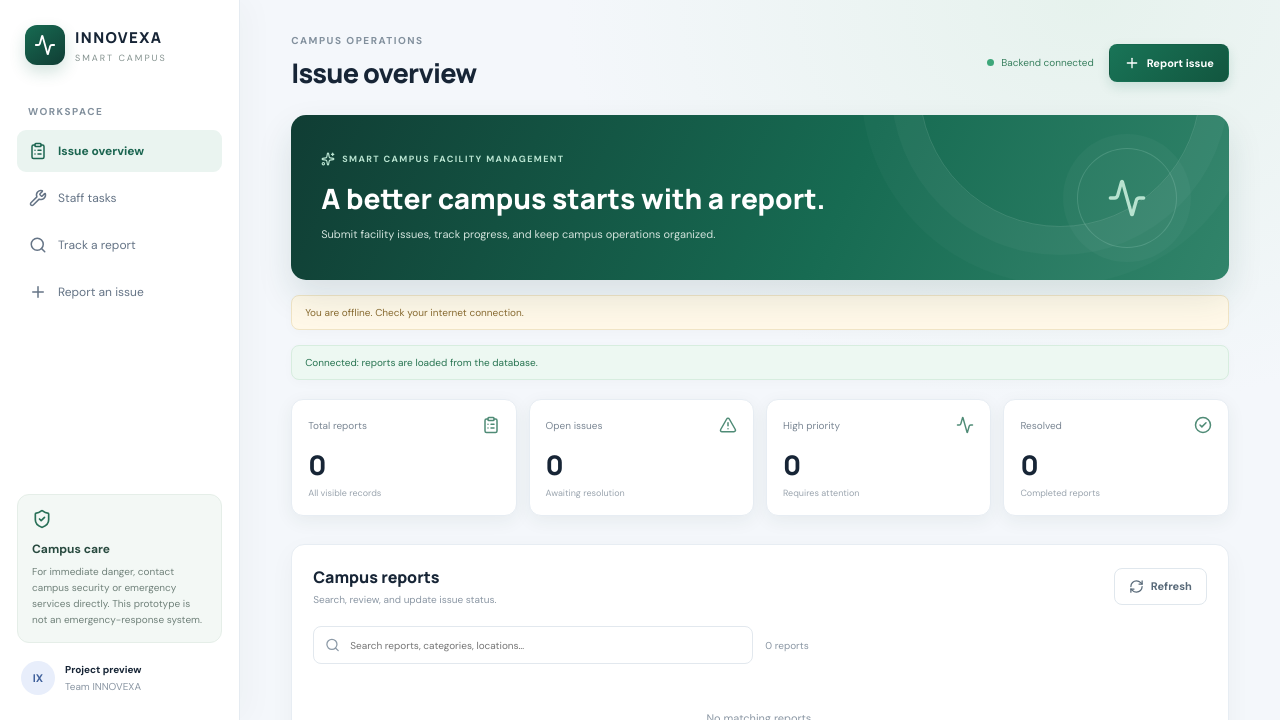
student issue interface › submits a valid report and displays the saved record
The image size is (1280, 720).
Click the button "Report issue" at {"x": 1169, "y": 62}, box [1109,44,1229,82]
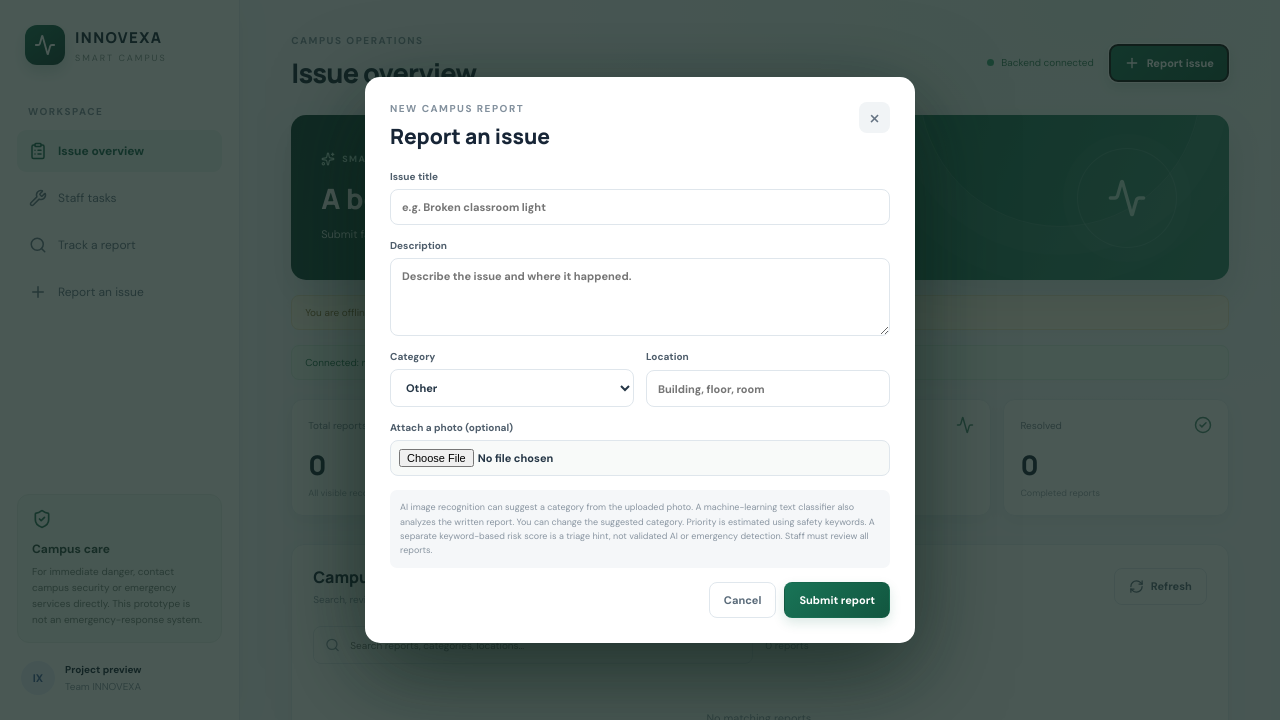
Type "Broken projector" into the field labelled "Issue title" at {"x": 640, "y": 207}, box [390,189,890,225]
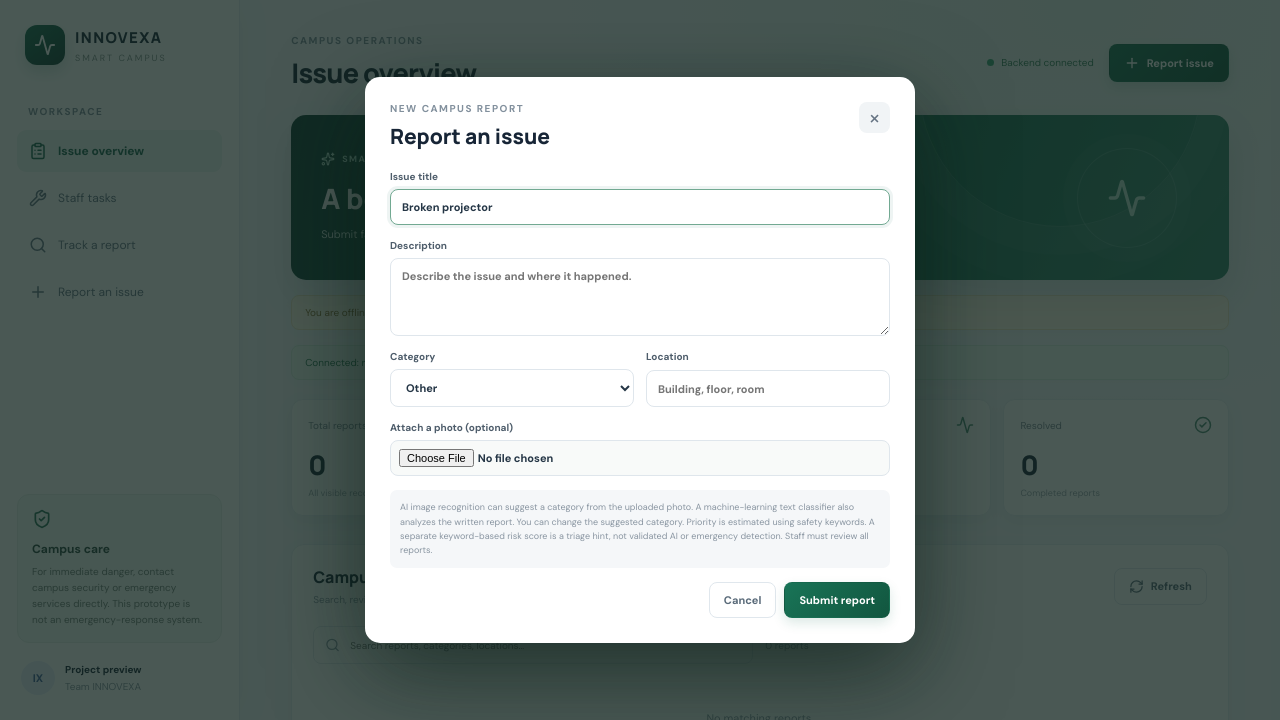
Type "The projector does not turn on." into the text box labelled "Description" at {"x": 640, "y": 297}, box [390,258,890,336]
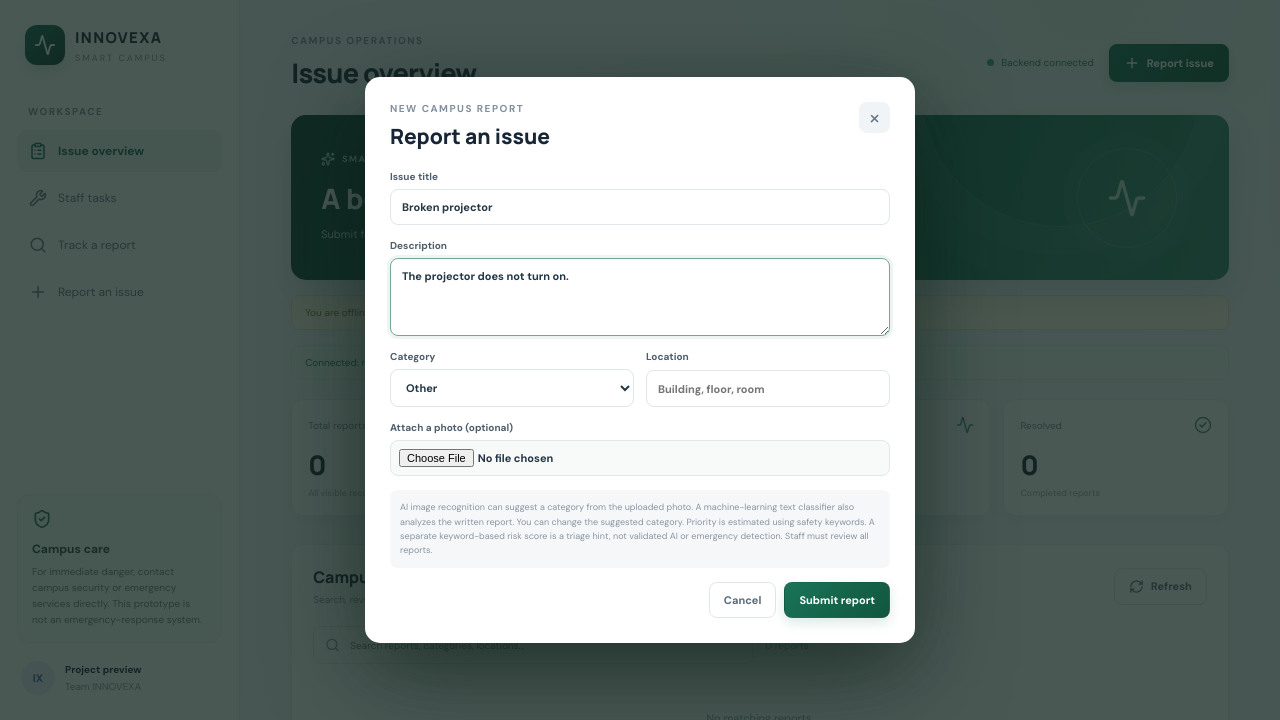
Type "Lecture Hall 3" into the field labelled "Location" at {"x": 768, "y": 389}, box [646,370,890,407]
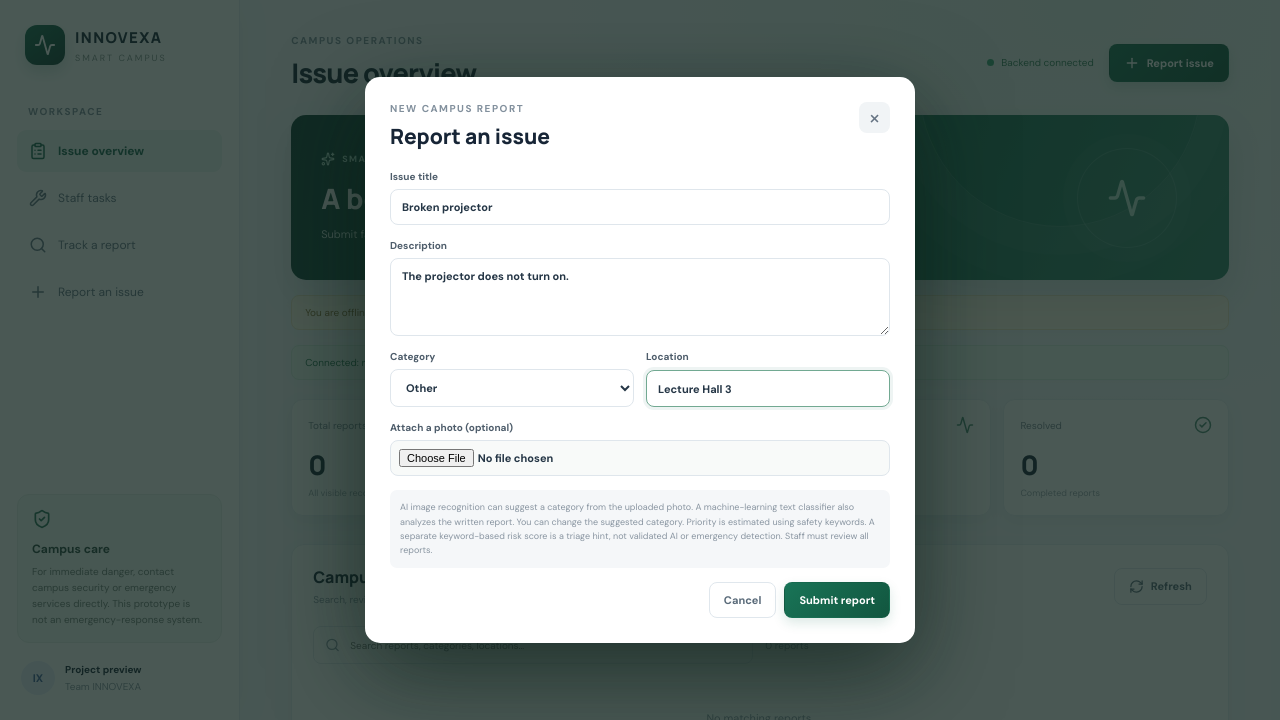
Click the button "Submit report" at {"x": 837, "y": 600}, box [784,582,890,618]
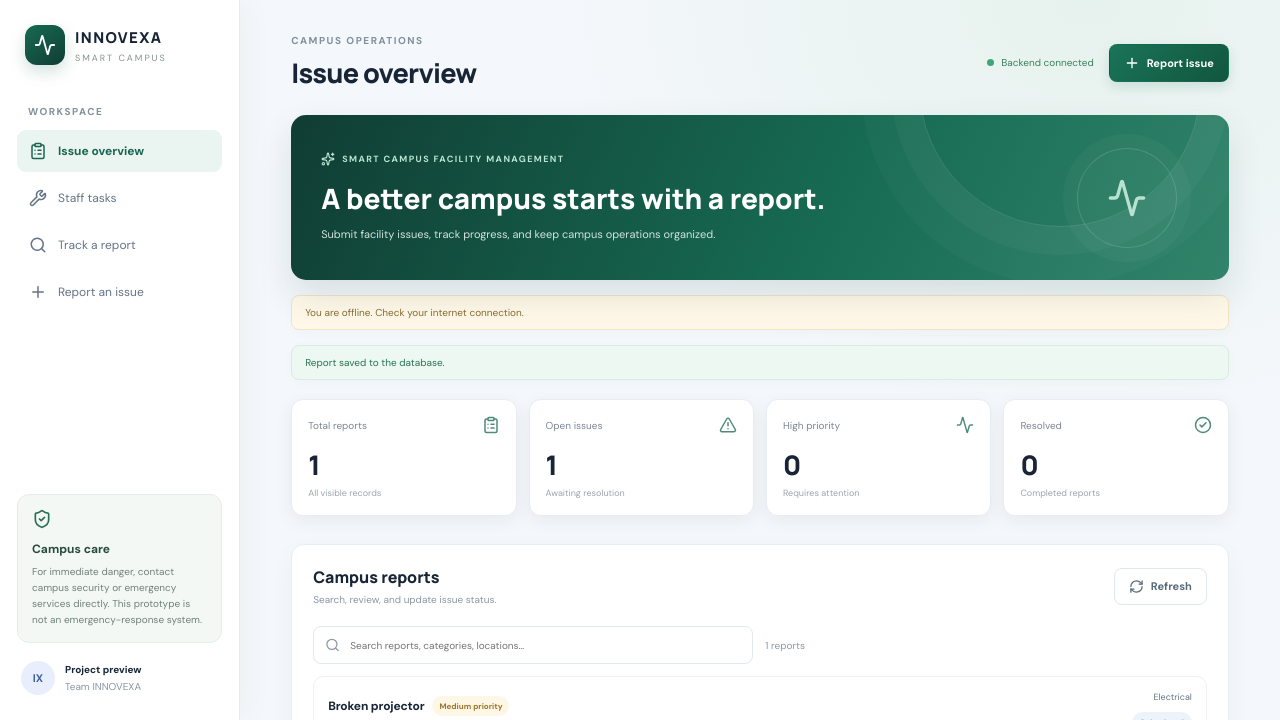
Expected: the heading "Broken projector" is shown, [328,698,424,714]
